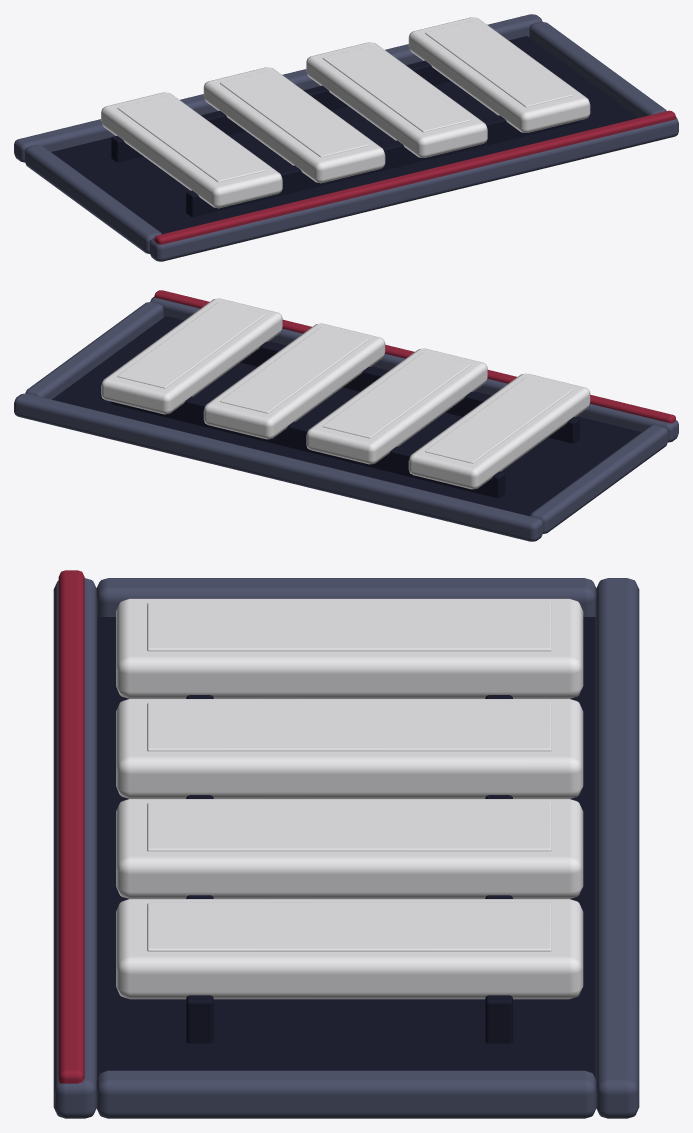
Rendered from roof.radiator.w2.d1.glb.
The picture shows the model from 3 angles, top to bottom: view 1: azimuth 30°, elevation 25°; view 2: azimuth 150°, elevation 25°; view 3: azimuth 270°, elevation 25°; orthographic projection. The views are drawn at different scales.
Visible parts, largest first — view 1: roof.radiator.w2.d1; view 2: roof.radiator.w2.d1; view 3: roof.radiator.w2.d1.
Part boxes in pixels (<box>): roof.radiator.w2.d1: <box>14,14,678,261</box>; roof.radiator.w2.d1: <box>14,290,678,541</box>; roof.radiator.w2.d1: <box>53,570,639,1118</box>.
Bounding box in the file's own units: 1.94 × 0.164 × 0.94.
